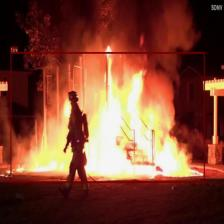fire: (10, 52, 205, 182)
